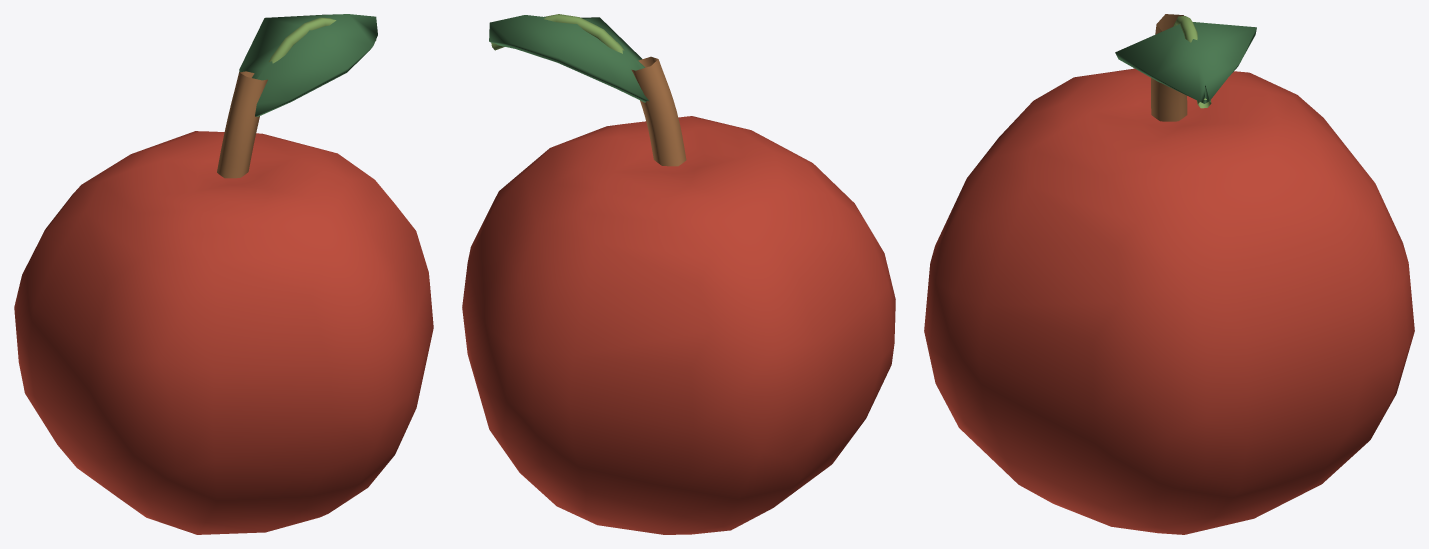
File: apple.glb
3 views of the same model, side by side, from view 1: azimuth 30°, elevation 25°; view 2: azimuth 150°, elevation 25°; view 3: azimuth 270°, elevation 25° (orthographic). The views are drawn at different scales.
Visible parts, largest first — view 1: Crafted_apple_red, Crafted_leaf, Crafted_wood, Crafted_lightleaf; view 2: Crafted_apple_red, Crafted_leaf, Crafted_wood, Crafted_lightleaf; view 3: Crafted_apple_red, Crafted_leaf, Crafted_wood.
Part boxes in pixels (x1=…): Crafted_apple_red: x1=14, y1=131, x2=433, y2=534; Crafted_leaf: x1=239, y1=14, x2=377, y2=116; Crafted_wood: x1=217, y1=71, x2=267, y2=178; Crafted_lightleaf: x1=269, y1=17, x2=376, y2=63; Crafted_apple_red: x1=462, y1=116, x2=895, y2=534; Crafted_leaf: x1=489, y1=15, x2=649, y2=102; Crafted_wood: x1=631, y1=56, x2=686, y2=166; Crafted_lightleaf: x1=491, y1=14, x2=624, y2=53; Crafted_apple_red: x1=924, y1=68, x2=1414, y2=534; Crafted_leaf: x1=1115, y1=22, x2=1256, y2=103; Crafted_wood: x1=1151, y1=14, x2=1187, y2=121.
Bounding box in the file's own units: 0.4782 × 0.5908 × 0.489.
